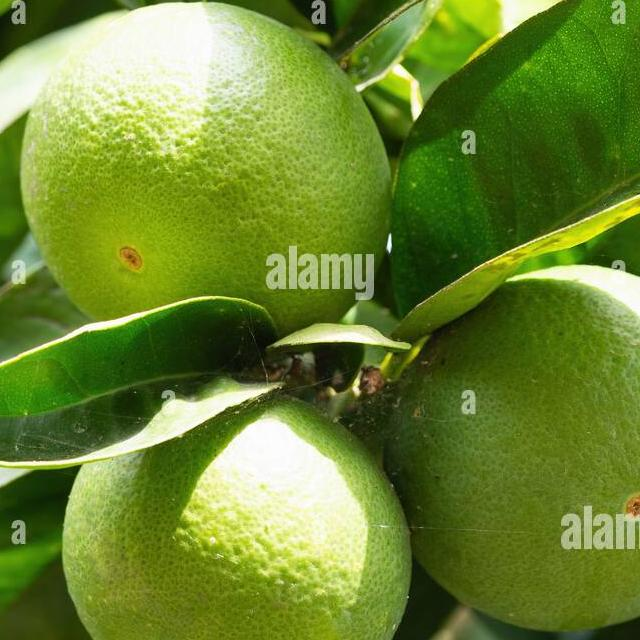lime: (20, 7, 384, 332), (390, 271, 640, 637), (62, 389, 404, 640)
